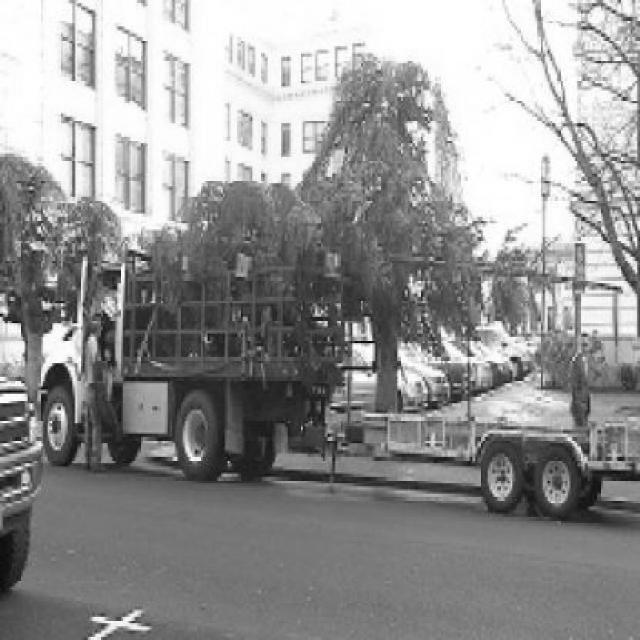Box Truck: (41, 249, 347, 484), (333, 414, 640, 520)
